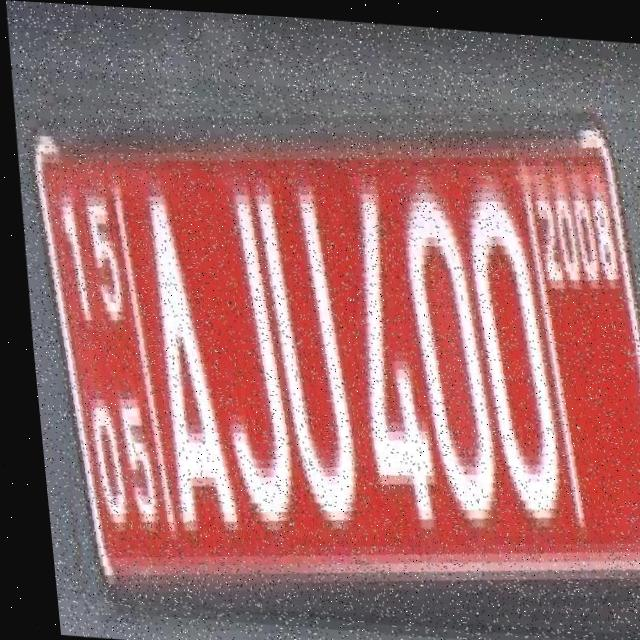LicensePlate: (5, 64, 640, 639)
